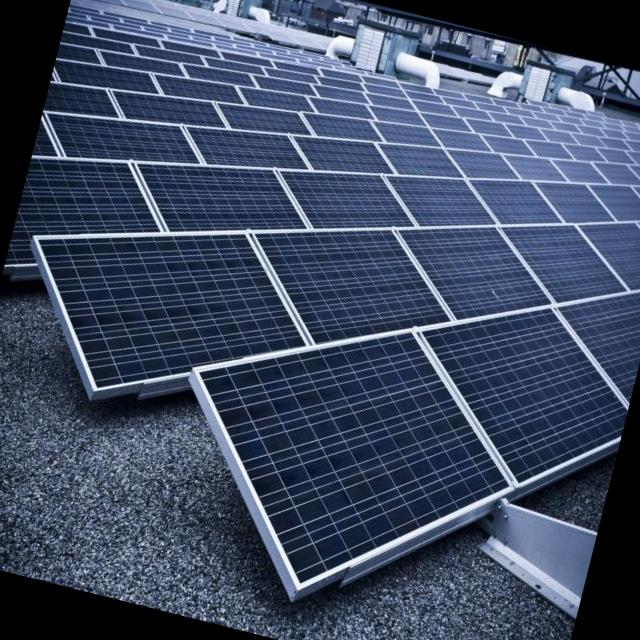no faulty: (19, 27, 640, 591)
